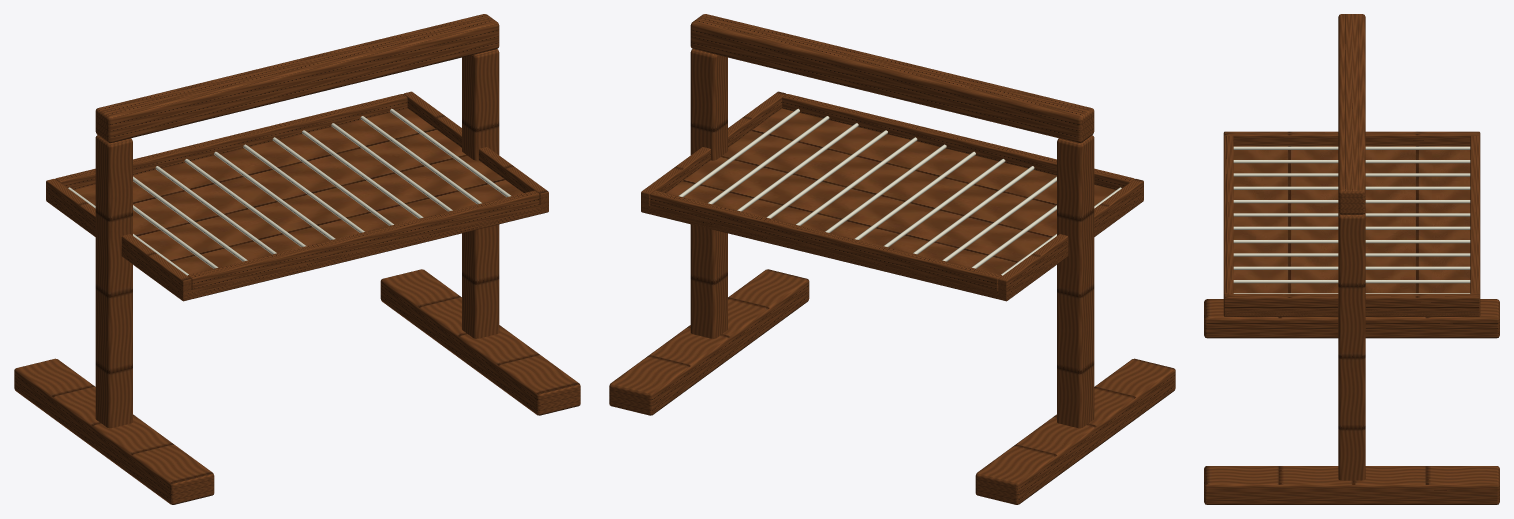
The model's file is survival-greenhouse-and-irrigation-seed-drying-screen-49965187__21328.glb.
3 views of the same model, side by side, from view 1: azimuth 30°, elevation 25°; view 2: azimuth 150°, elevation 25°; view 3: azimuth 270°, elevation 25° (orthographic). The views are drawn at different scales.
Visible parts, largest first — view 1: seed-drying-screen; view 2: seed-drying-screen; view 3: seed-drying-screen.
Boxes of the visible parts, x1,y1,x2,y2 form: seed-drying-screen: (14, 14, 580, 504); seed-drying-screen: (609, 14, 1175, 504); seed-drying-screen: (1204, 14, 1499, 504).
Bounding box in the file's own units: 1.12 × 0.8701 × 0.75.
2 materials, 1 textured.
